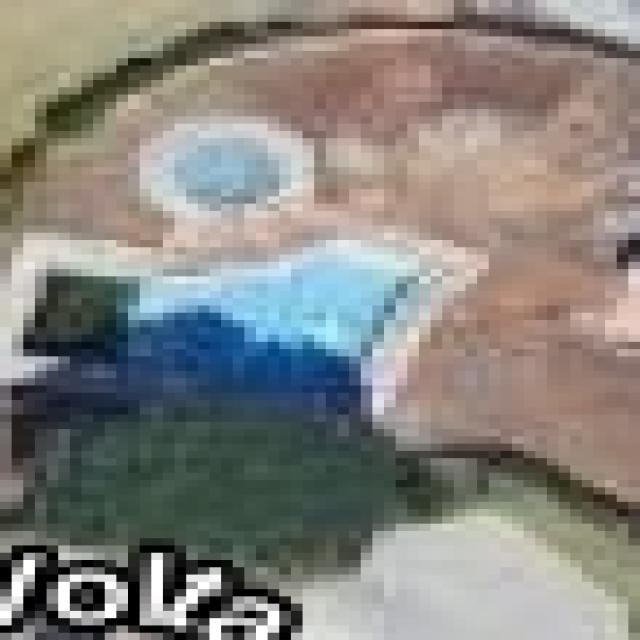pool: (0, 218, 451, 417), (134, 108, 320, 217)
